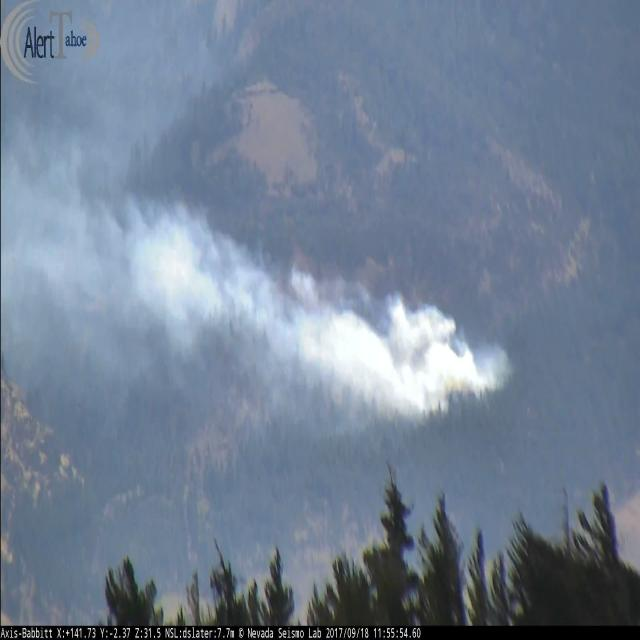smoke: (0, 143, 510, 418)
